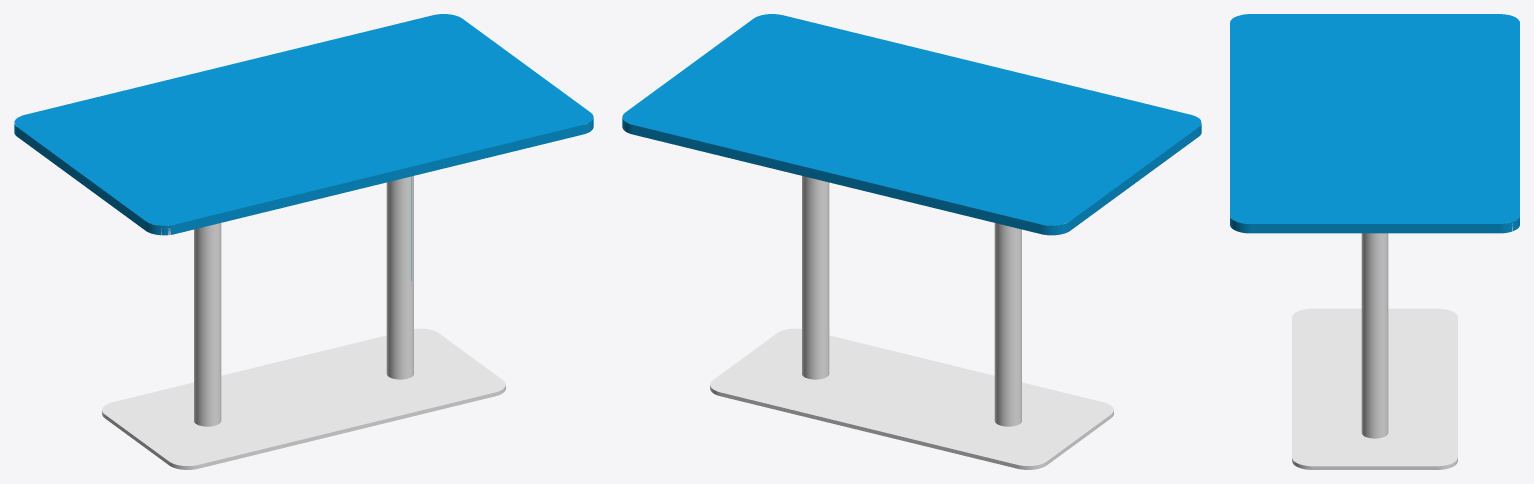
The model's file is RegularTable001.dae.
3 views of the same model, side by side, from view 1: azimuth 30°, elevation 25°; view 2: azimuth 150°, elevation 25°; view 3: azimuth 270°, elevation 25° (orthographic). The views are drawn at different scales.
Parts seen in each view (by area): view 1: RegularTable001; view 2: RegularTable001; view 3: RegularTable001.
Part boxes in pixels (left/top/right/bottom): RegularTable001: left=14, top=14, right=593, bottom=469; RegularTable001: left=622, top=14, right=1201, bottom=469; RegularTable001: left=1230, top=14, right=1519, bottom=469.
Size of the model in its own units: 1200 by 700 by 725.
